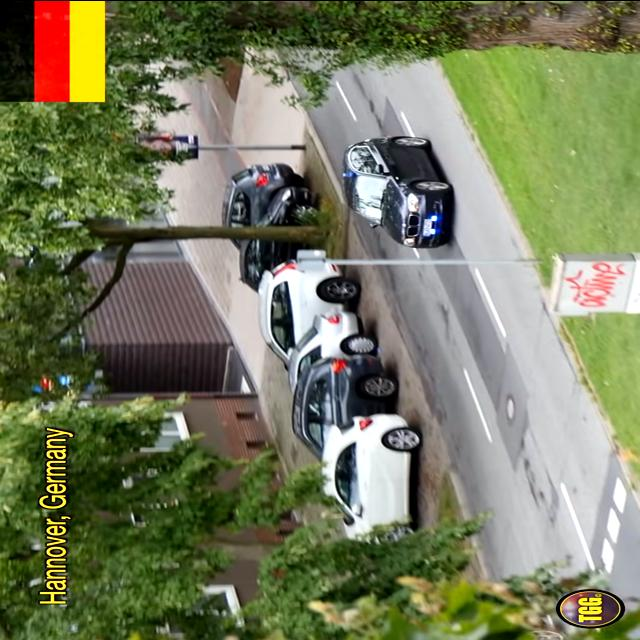emergency-vehicles: (336, 120, 458, 256)
